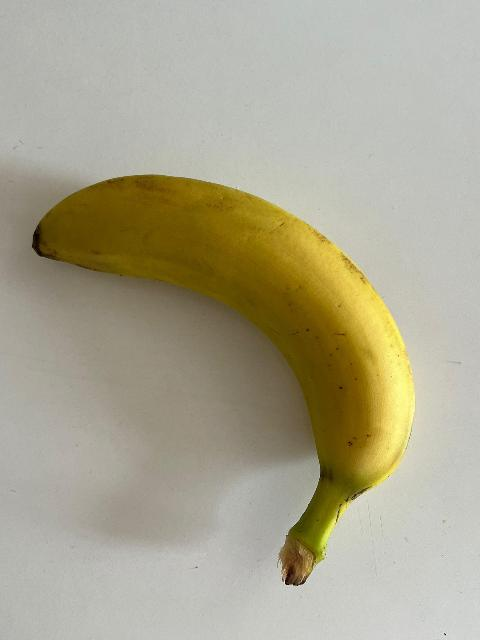Organik: (17, 172, 425, 589)
